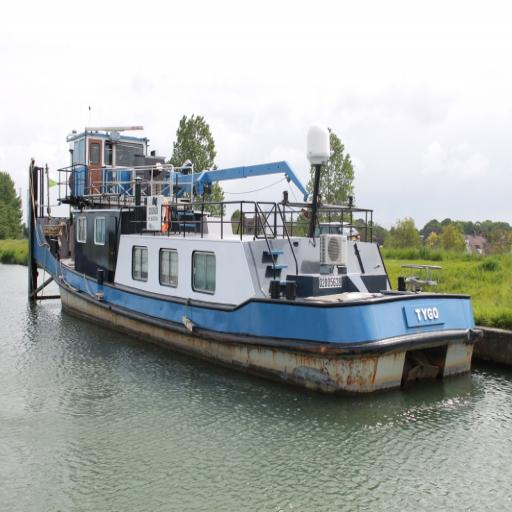tugboat: (24, 124, 487, 402)
